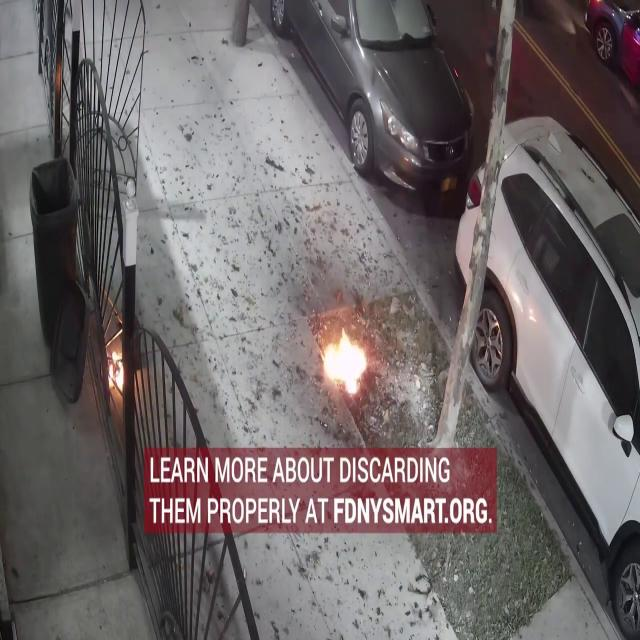Fire: (317, 321, 374, 398), (108, 339, 126, 407)
